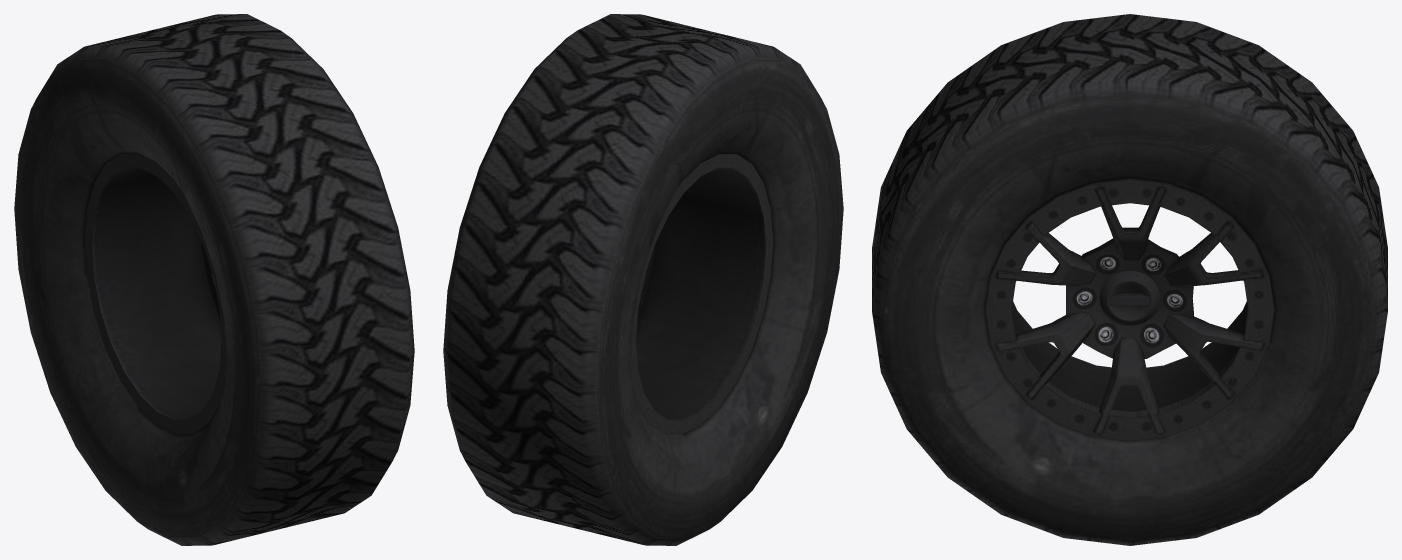
File: raptor_wheelLF.glb
3 views of the same model, side by side, from view 1: azimuth 30°, elevation 25°; view 2: azimuth 150°, elevation 25°; view 3: azimuth 270°, elevation 25° (orthographic).
Parts seen in each view (by area): view 1: LF_WHEEL_Raptor_Wheels_0; view 2: LF_WHEEL_Raptor_Wheels_0; view 3: LF_WHEEL_Raptor_Wheels_0.
Part boxes in pixels (left/top/right/bottom): LF_WHEEL_Raptor_Wheels_0: left=14, top=14, right=414, bottom=545; LF_WHEEL_Raptor_Wheels_0: left=443, top=14, right=843, bottom=545; LF_WHEEL_Raptor_Wheels_0: left=872, top=14, right=1387, bottom=545.
Size of the model in its own units: 0.3222 by 0.9111 by 0.9111.
1 material, 1 textured.
